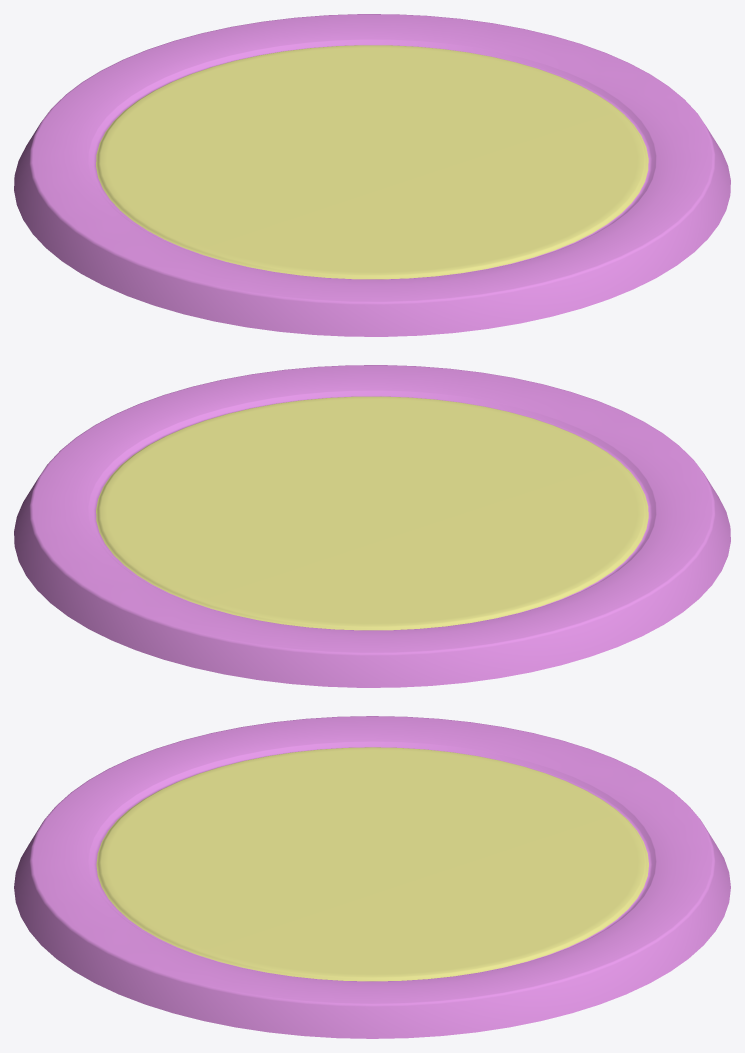
Rendered from Platform.fbx.
3 renders of one model, top to bottom at view 1: azimuth 30°, elevation 25°; view 2: azimuth 150°, elevation 25°; view 3: azimuth 270°, elevation 25°, orthographic.
Parts seen in each view (by area): view 1: Platform; view 2: Platform; view 3: Platform.
Boxes of the visible parts, <box> form: Platform: <box>14,14,730,336</box>; Platform: <box>14,365,730,687</box>; Platform: <box>14,716,730,1038</box>.
Size of the model in its own units: 1.13 by 0.0476 by 1.13.
